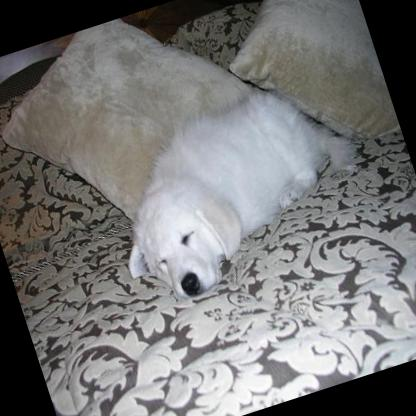kuvasz: (87, 66, 385, 315)
